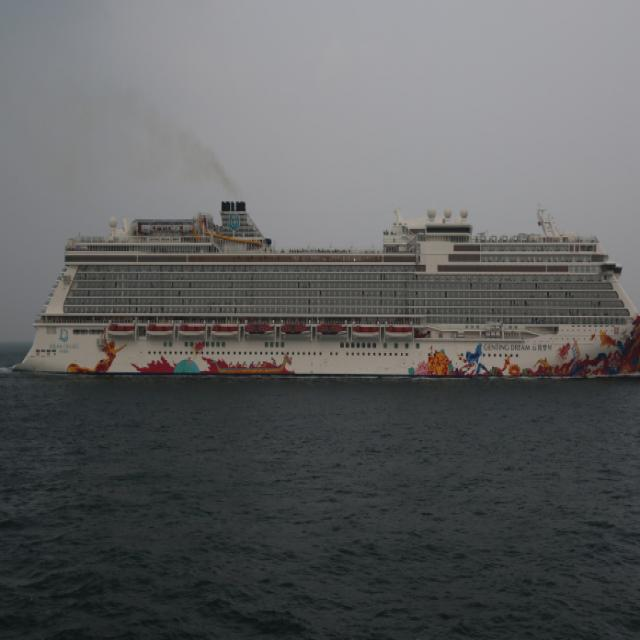cruises: (11, 187, 640, 400)
